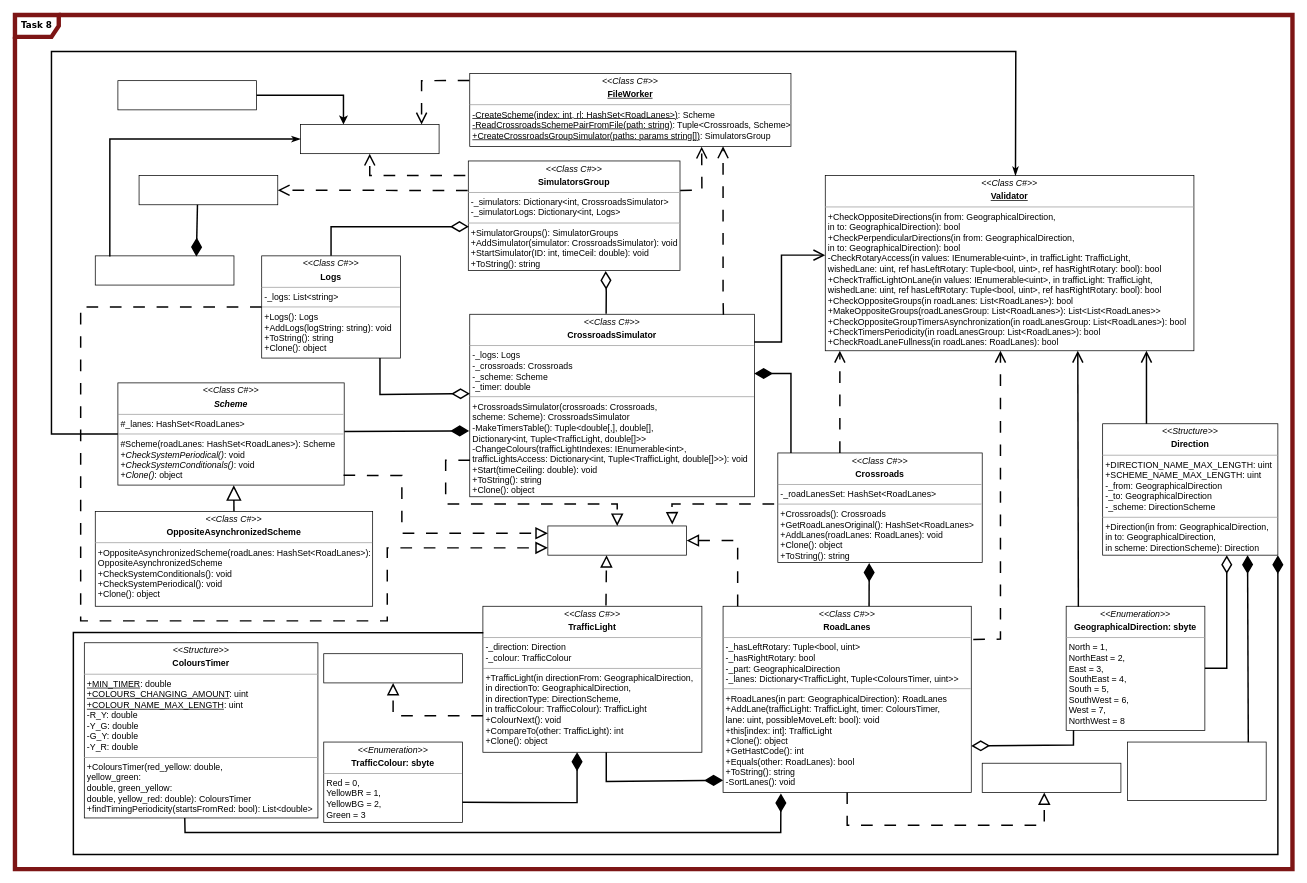
Some shapes in this 1307 by 883 pixel diagram are drawn without their labels. Each missing label, with the centre of its shape:
"<<Class C#>> Console" belongs at pixel 187 95.
"<<Class C#>> Program" belongs at pixel 369 139.
"<<Delegate>> ColourWork(): string" belongs at pixel 164 270.
"<<Enumeration>> DirectionScheme: sbyte Rectilinear = 0, Rotary = 1" belongs at pixel 1196 770.
"<<Event>> ColourChanged: ColourWork" belongs at pixel 208 190.
"<<Interface>> ICloneable" belongs at pixel 617 540.
"<<Interface>> IComparable: TrafficLight" belongs at pixel 392 668.
"<<Interface>> IEqutable: RoadLanes" belongs at pixel 1051 777.
